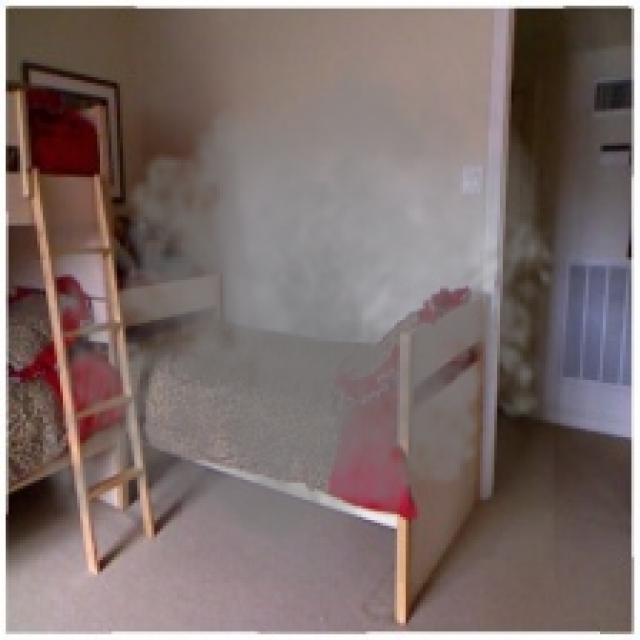Smoke: (23, 31, 566, 583)
